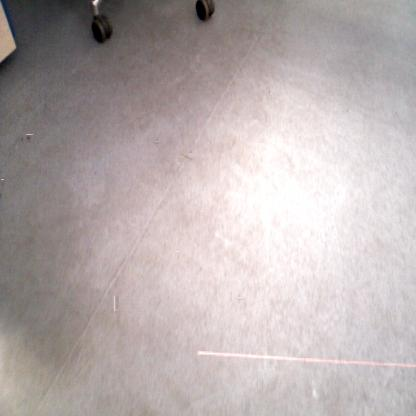mark: (180, 150, 194, 164), (114, 295, 119, 311), (236, 294, 244, 302), (26, 134, 33, 142), (94, 169, 100, 177), (176, 251, 180, 262), (0, 179, 4, 188), (154, 140, 160, 146), (20, 138, 24, 146), (266, 86, 270, 94)
